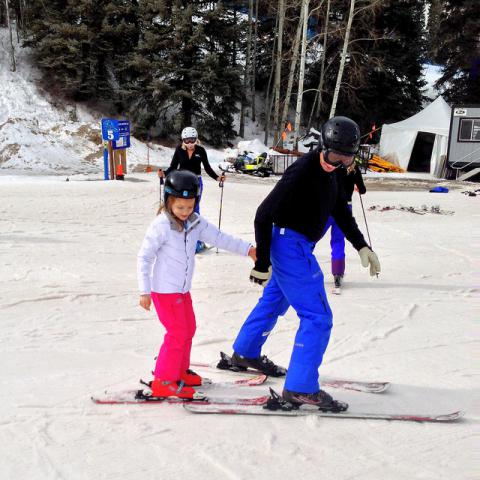motorcycle: (231, 151, 273, 177)
